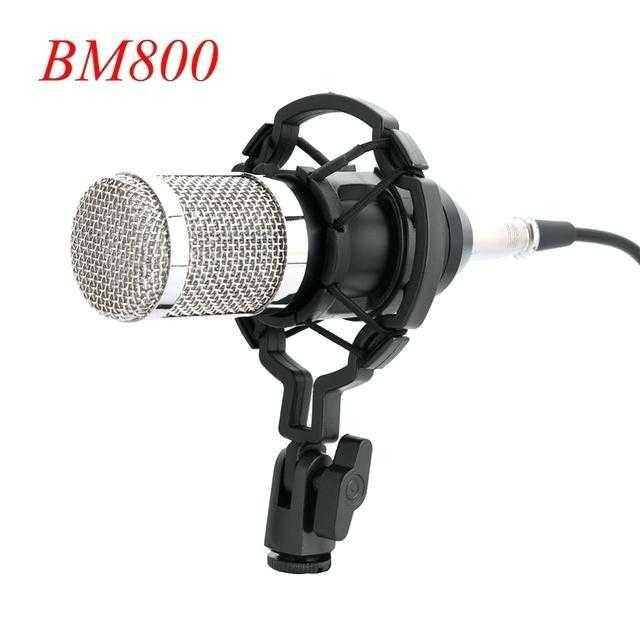microphone: (69, 108, 620, 331)
